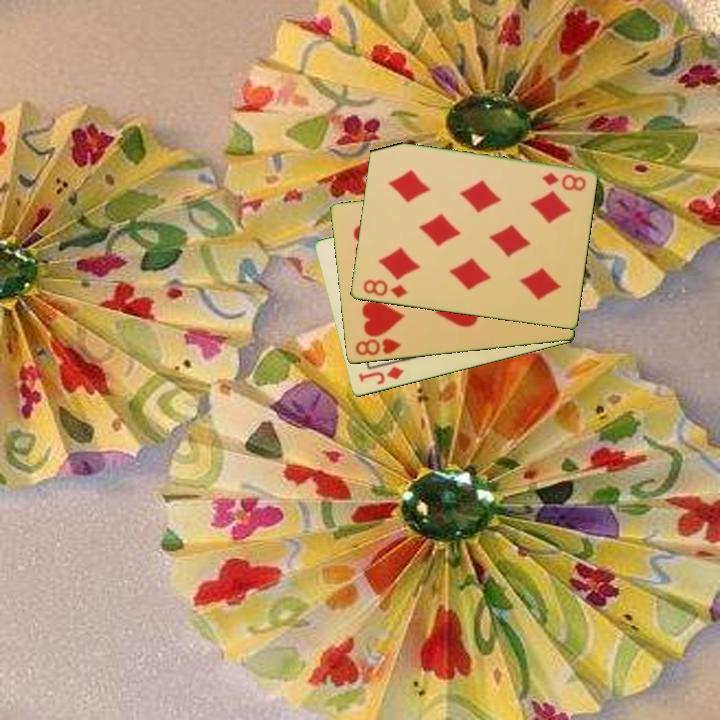8d: (359, 276, 410, 301), (538, 169, 588, 194)
8h: (352, 335, 404, 359)
Jd: (355, 363, 407, 388)
